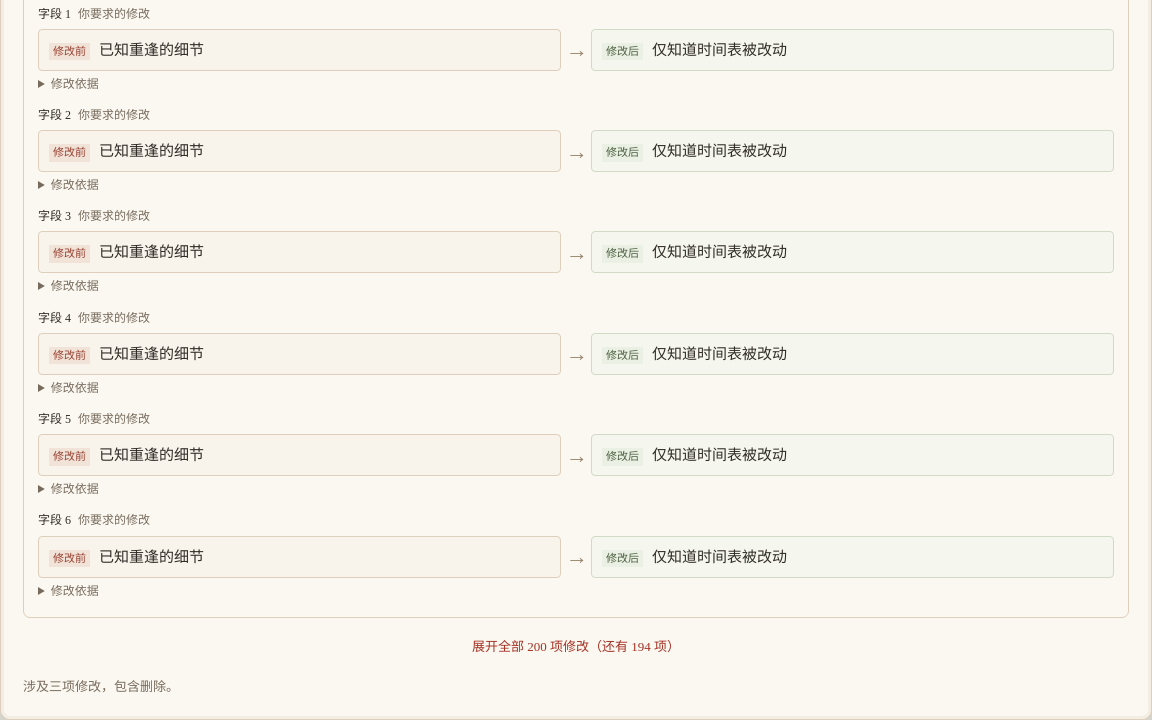
Test: public patch dossier card › makes every item in a large patch accessible without silently truncating the batch
This screenshot has width=1152, height=720.
(page scrolled)
Expected: the text "字段 200" is not shown
Click the button "展开全部 200 项修改（还有 194 项）". click: (576, 647)
box: 460,632 -> 692,663
(page scrolled)
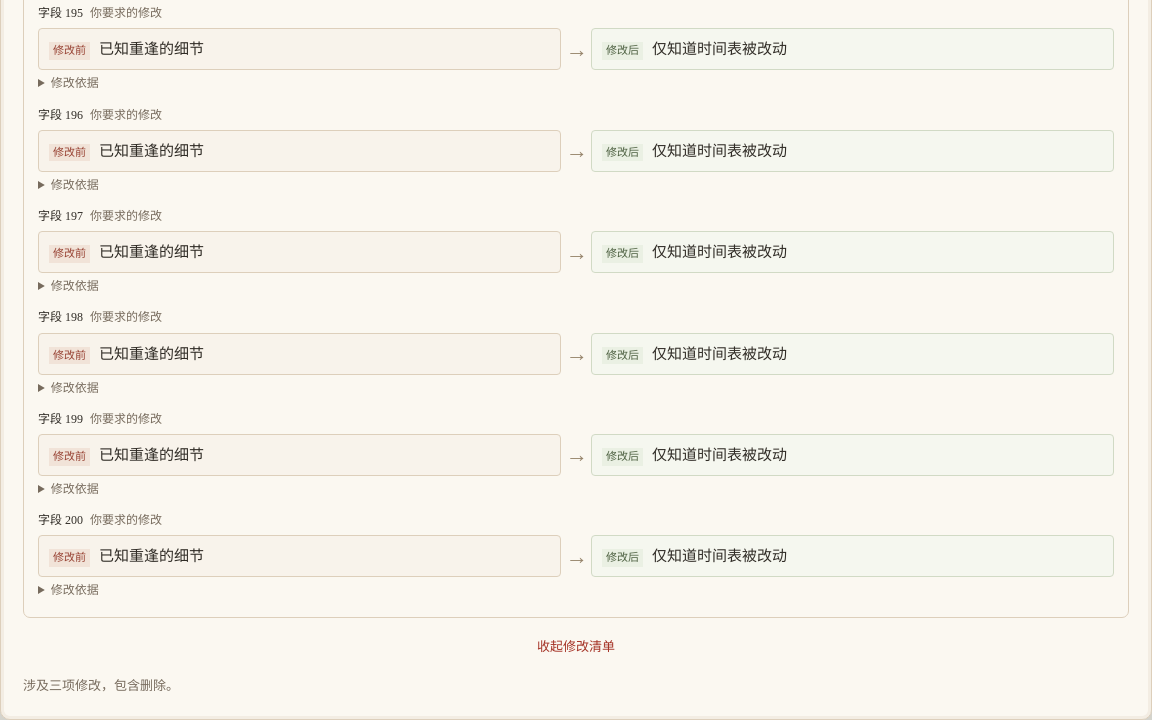
Now the text "字段 200" is shown, box 38,511 -> 83,530
Click the button "收起修改清单". click: (576, 647)
box: 525,632 -> 627,662
(page scrolled)
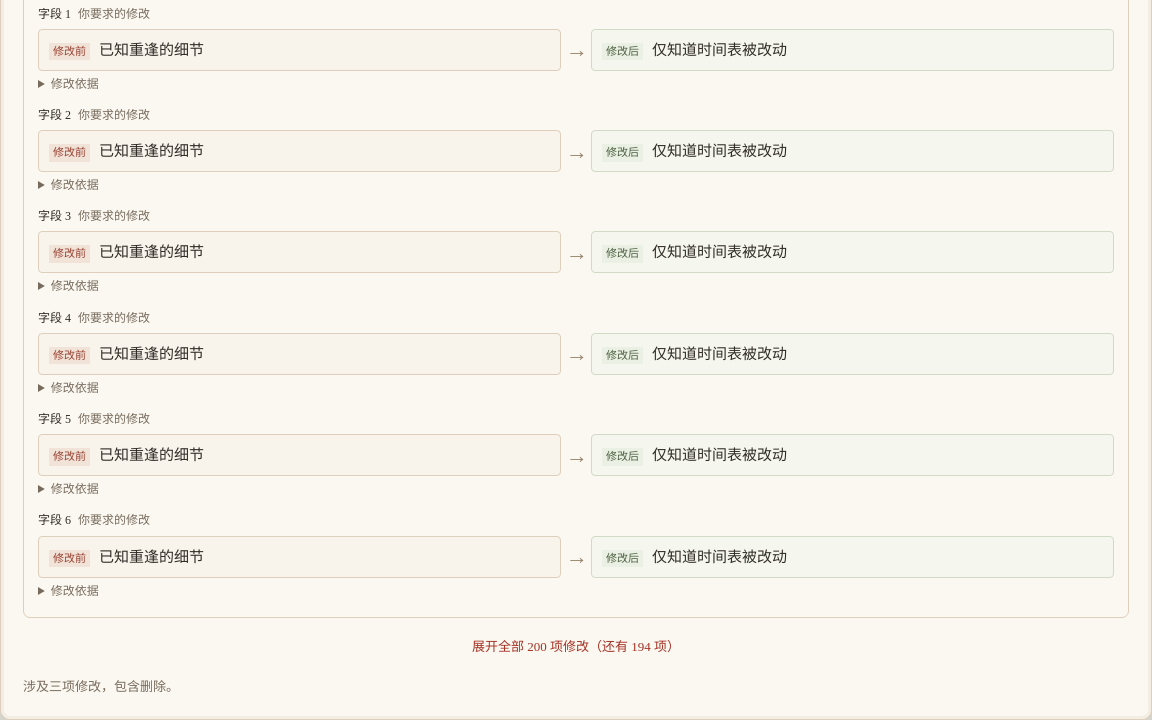
Now the text "字段 200" is gone
